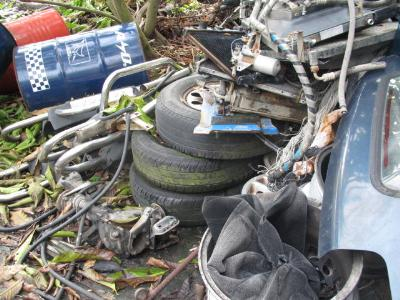bucket: (13, 22, 152, 112)
tire: (154, 73, 284, 160), (130, 126, 267, 194)
